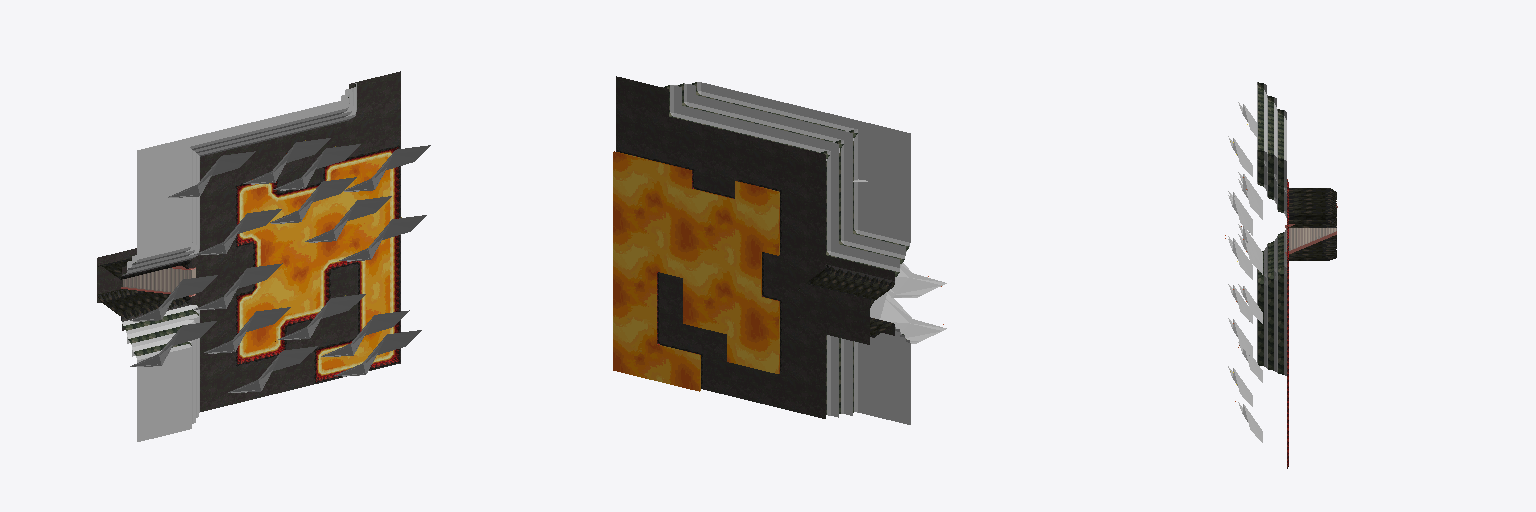
3 renders of one model, left to right at view 1: azimuth 30°, elevation 25°; view 2: azimuth 150°, elevation 25°; view 3: azimuth 270°, elevation 25°, orthographic.
Visible parts, largest first — view 1: map; view 2: map; view 3: map.
Part boxes in pixels (x1,y1,x2,y2): map: (97,71,430,441); map: (613,76,946,424); map: (1225,82,1337,468).
Size of the model in its own units: 37.18 by 32 by 11.46.
Materials: 18 (12 with a texture image).